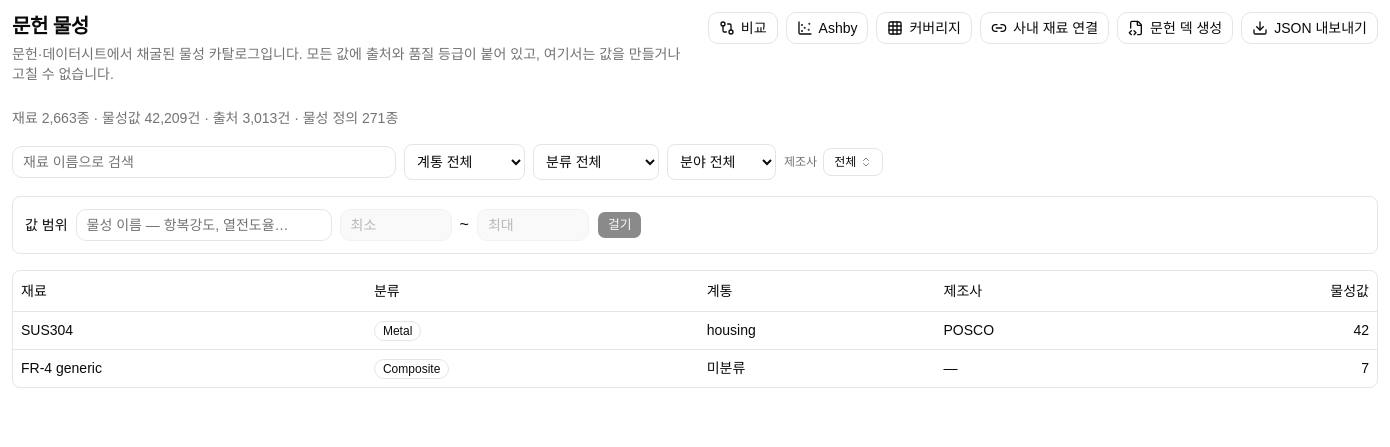
it: 거르는 축 — 분야 · 제조사 · 값 범위 (2026-10-03) › 최솟값이 최댓값보다 크면 걸지 않고 그렇다고 말한다
Expected: the link "SUS304" is shown, [21,322,73,338]
Type "밀도" into the field named "값으로 거를 물성" at {"x": 204, "y": 225}, box [76,209,332,241]
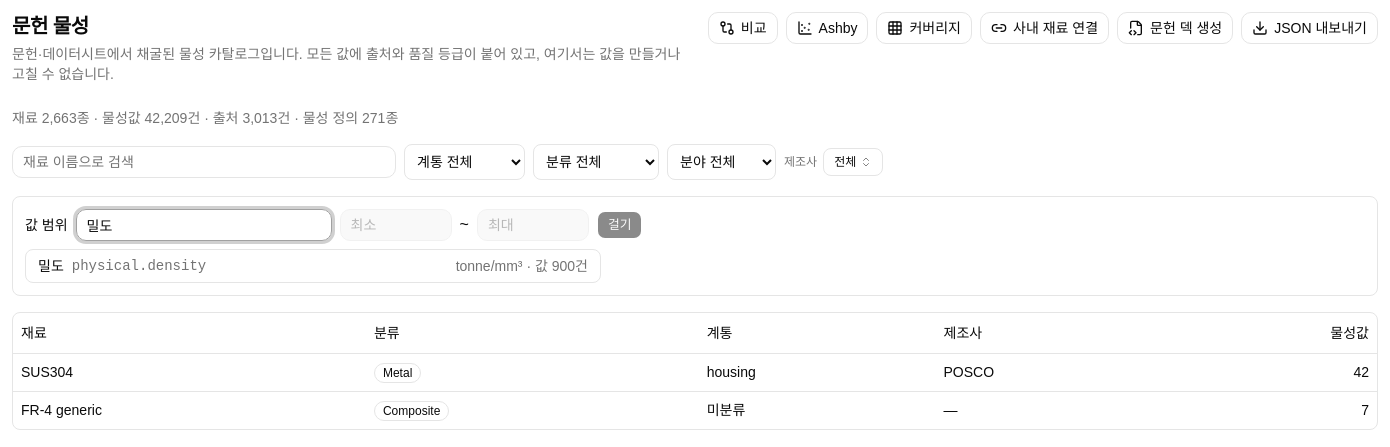
Click the button "밀도 physical.density tonne/mm³ · 값 900건" at {"x": 139, "y": 266}, box [26,250,600,282]
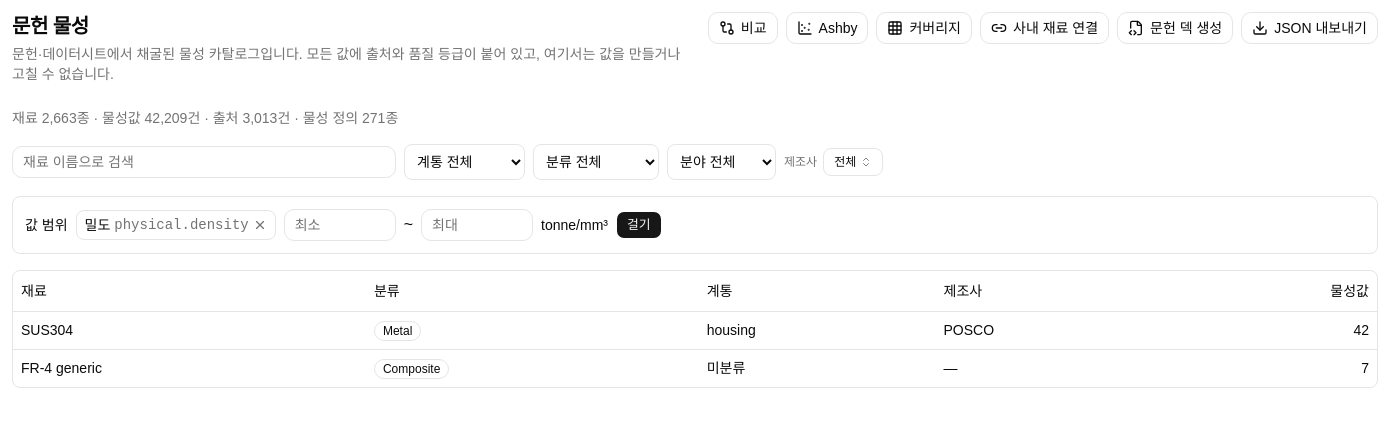
Type "9" into the field named "최솟값" at {"x": 340, "y": 225}, box [284,209,396,241]
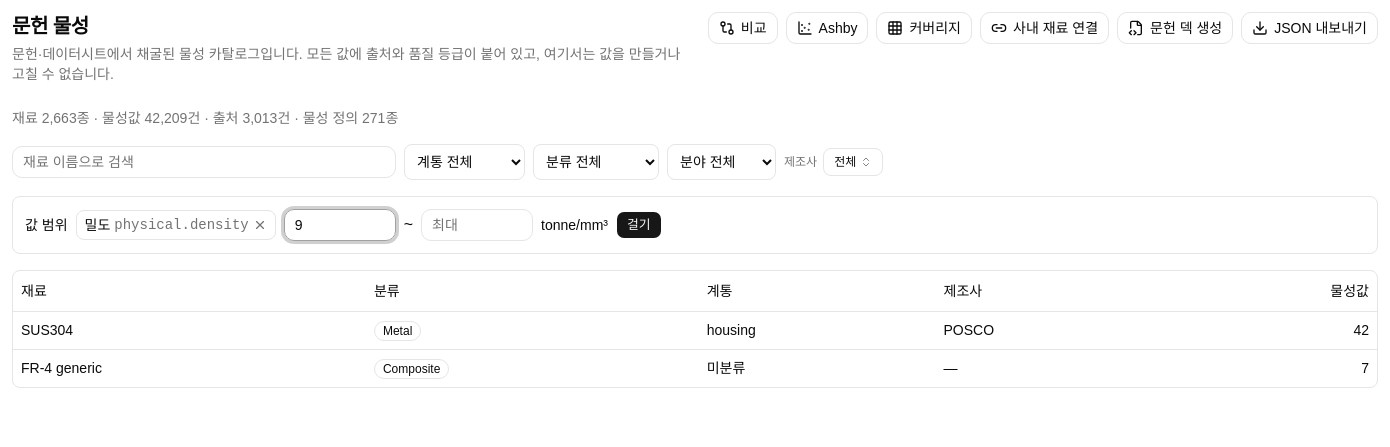
Type "2" into the field named "최댓값" at {"x": 477, "y": 225}, box [421,209,533,241]
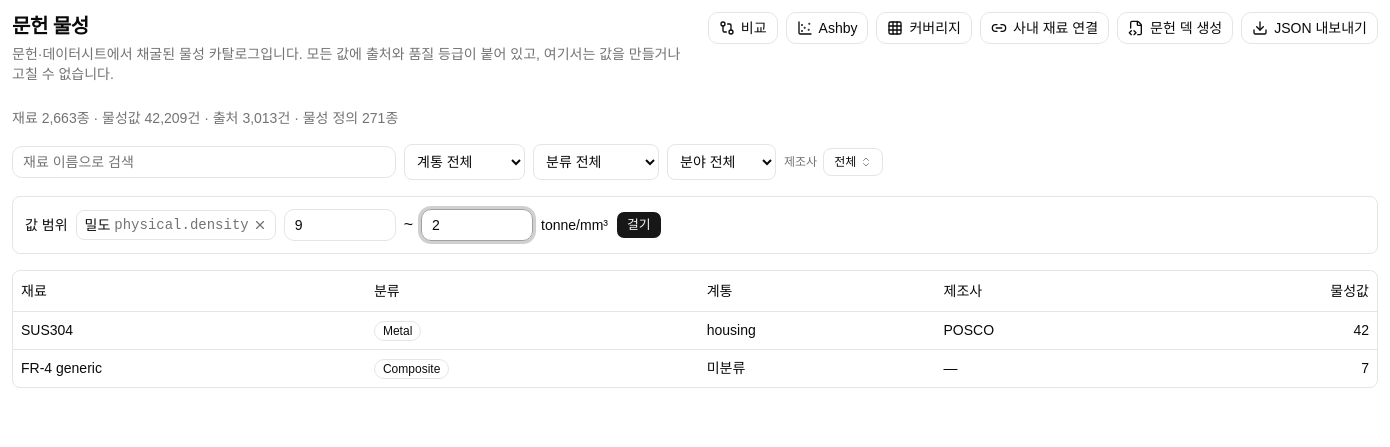
Click the button "걸기" at {"x": 639, "y": 225}, box [616,211,662,239]
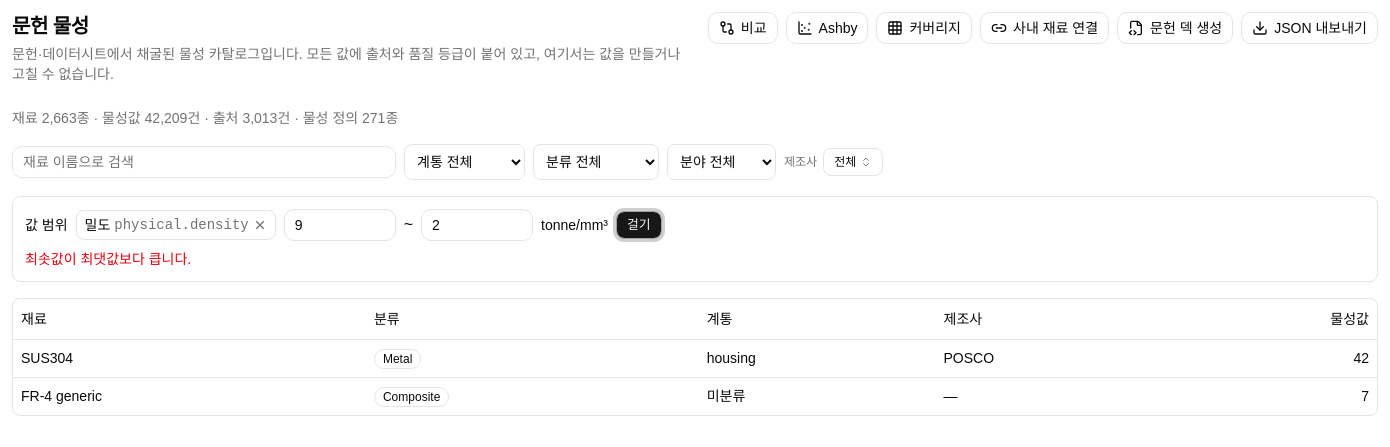
Expected: the message reads "최솟값이 최댓값보다 큽니다.", [25,251,191,267]
